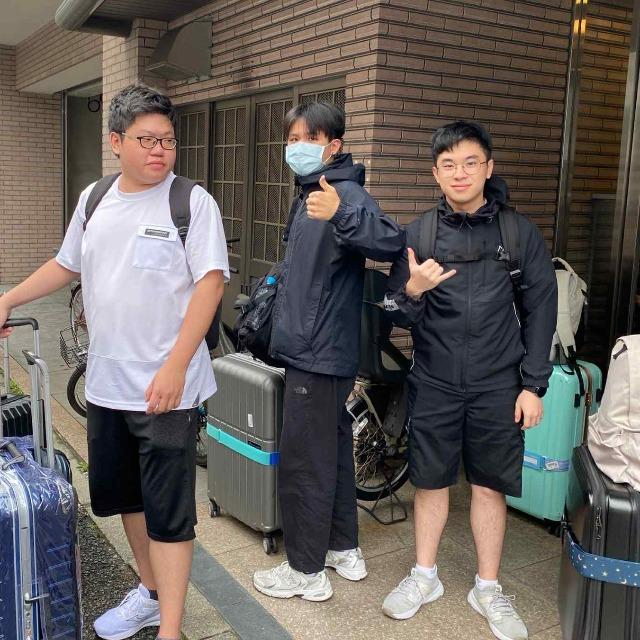NoHelmet: (106, 79, 177, 178), (430, 119, 495, 206), (281, 99, 349, 179)
NoVest: (80, 171, 220, 398), (399, 199, 554, 402)
